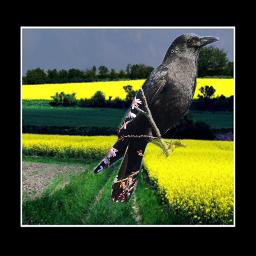Crow: (93, 32, 219, 202)
